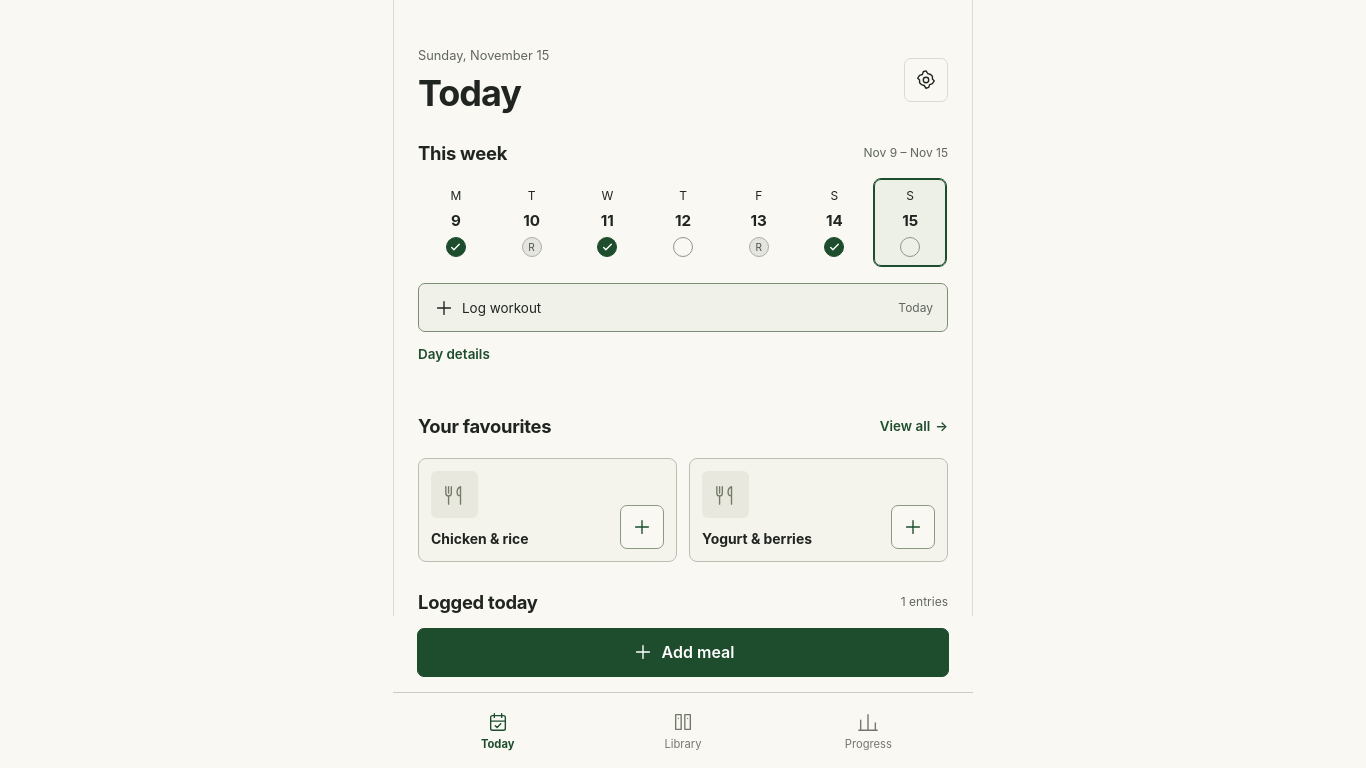
Test: actual screen interactions with persisted IndexedDB › failed draft transaction keeps local input and Save retries successfully
Expected: the heading "Today" is shown, 418,71 -> 521,115
Click the button "Add meal". click: (683, 652)
box: 417,628 -> 949,677
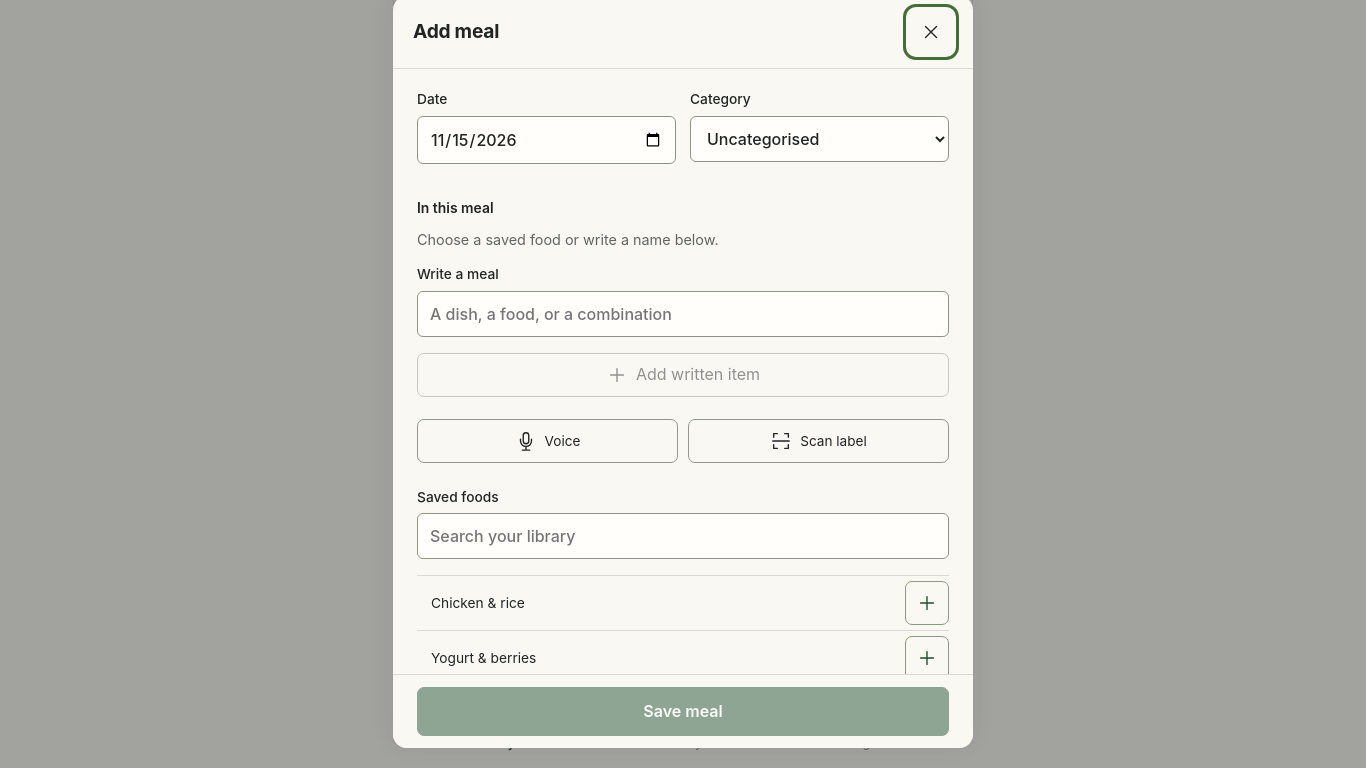
Type "Recover me" into the field labelled "Write a meal". click: (683, 314)
box: 417,291 -> 949,337
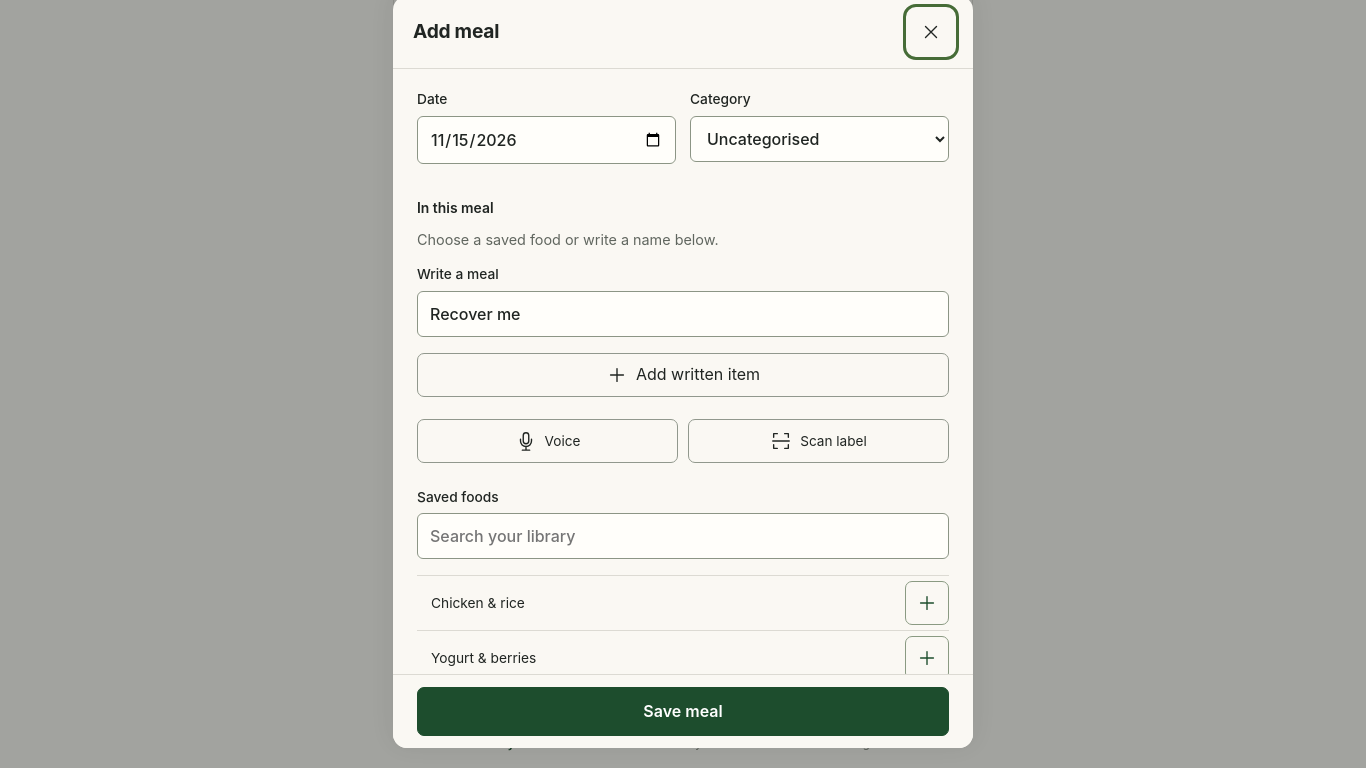
Click the button "Save meal". click: (683, 712)
box: 417,687 -> 949,736
(page scrolled)
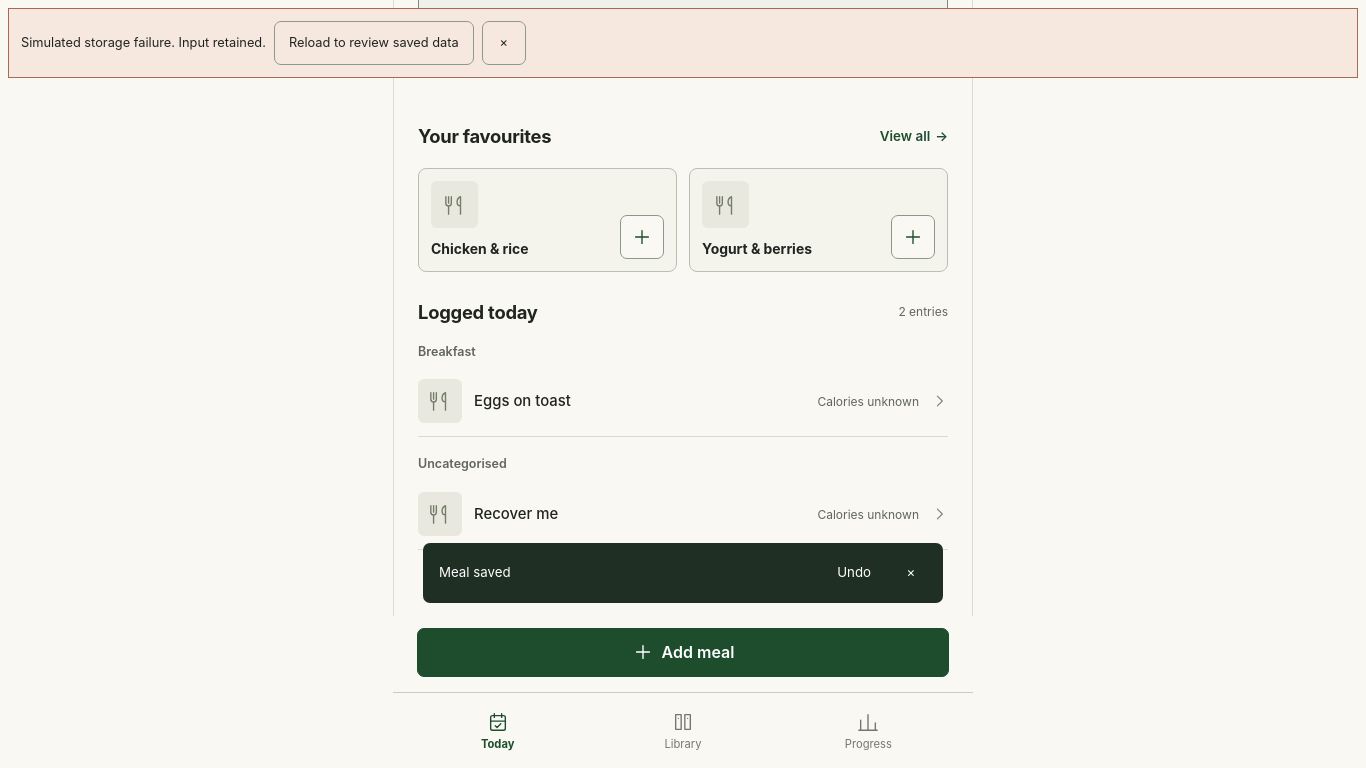
Result: the text "Recover me" is shown at 474,504 -> 558,524
